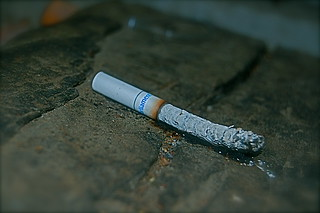cigarette: (90, 69, 268, 160)
